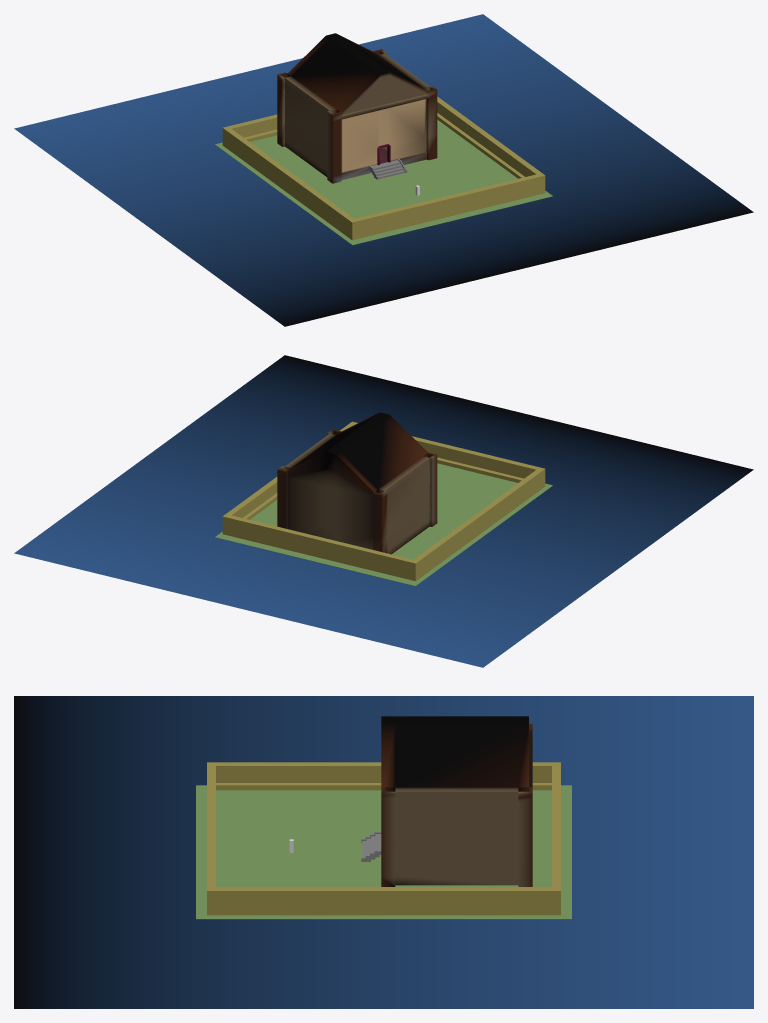
The model's file is tutorial.gltf.
3 views of the same model, one above another, from view 1: azimuth 30°, elevation 25°; view 2: azimuth 150°, elevation 25°; view 3: azimuth 270°, elevation 25° (orthographic). The views are drawn at different scales.
Parts seen in each view (by area): view 1: FloorAndWalls-col, House-col, Ground-col, Fence-col; view 2: FloorAndWalls-col, House-col, Fence-col, Ground-col; view 3: FloorAndWalls-col, House-col, Ground-col, Fence-col, Stairs-col.
Part boxes in pixels (bbox=[...]): FloorAndWalls-col: bbox=[14, 14, 753, 326]; House-col: bbox=[277, 33, 437, 183]; Ground-col: bbox=[215, 120, 552, 245]; Fence-col: bbox=[222, 96, 545, 240]; FloorAndWalls-col: bbox=[14, 355, 753, 667]; House-col: bbox=[277, 412, 437, 554]; Fence-col: bbox=[222, 421, 545, 581]; Ground-col: bbox=[215, 463, 552, 586]; FloorAndWalls-col: bbox=[14, 696, 753, 1008]; House-col: bbox=[381, 716, 532, 886]; Ground-col: bbox=[196, 785, 571, 919]; Fence-col: bbox=[207, 762, 560, 915]; Stairs-col: bbox=[361, 831, 381, 861].
Size of what is drawn, in the model's own units: 172 by 35.26 by 172.
